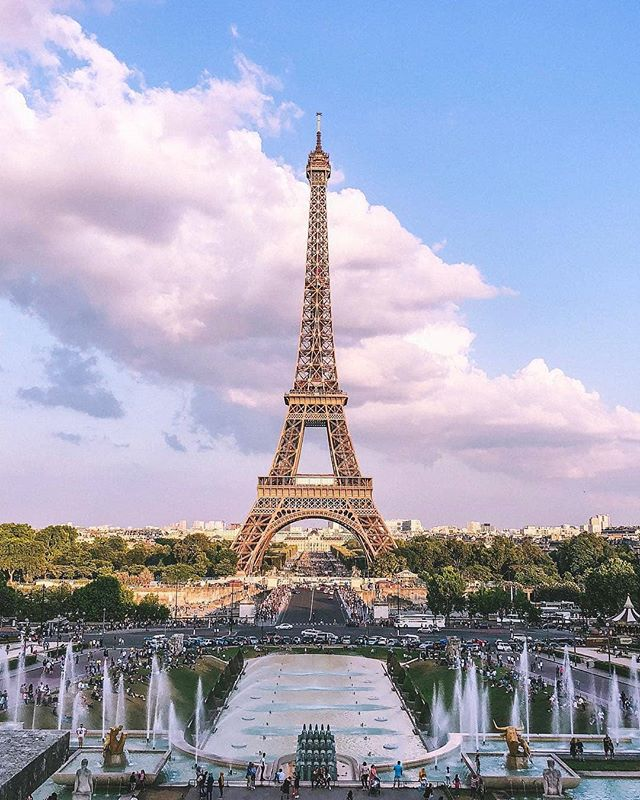tower: (222, 101, 412, 587)
